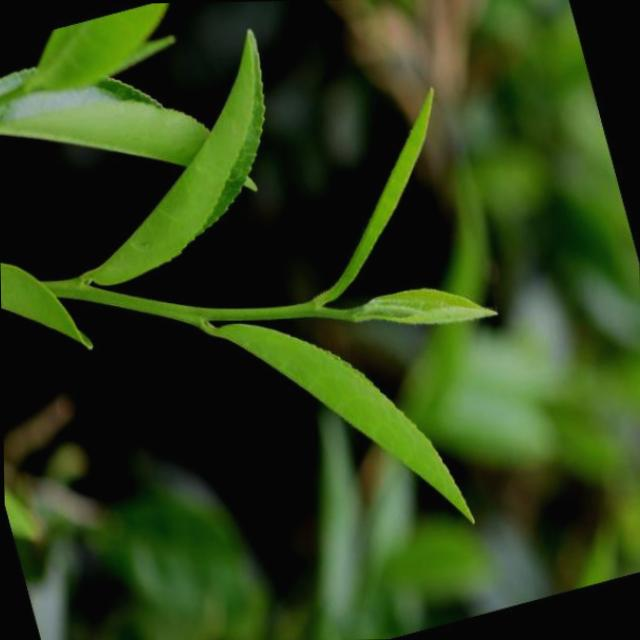Stem: (291, 304, 318, 316)
